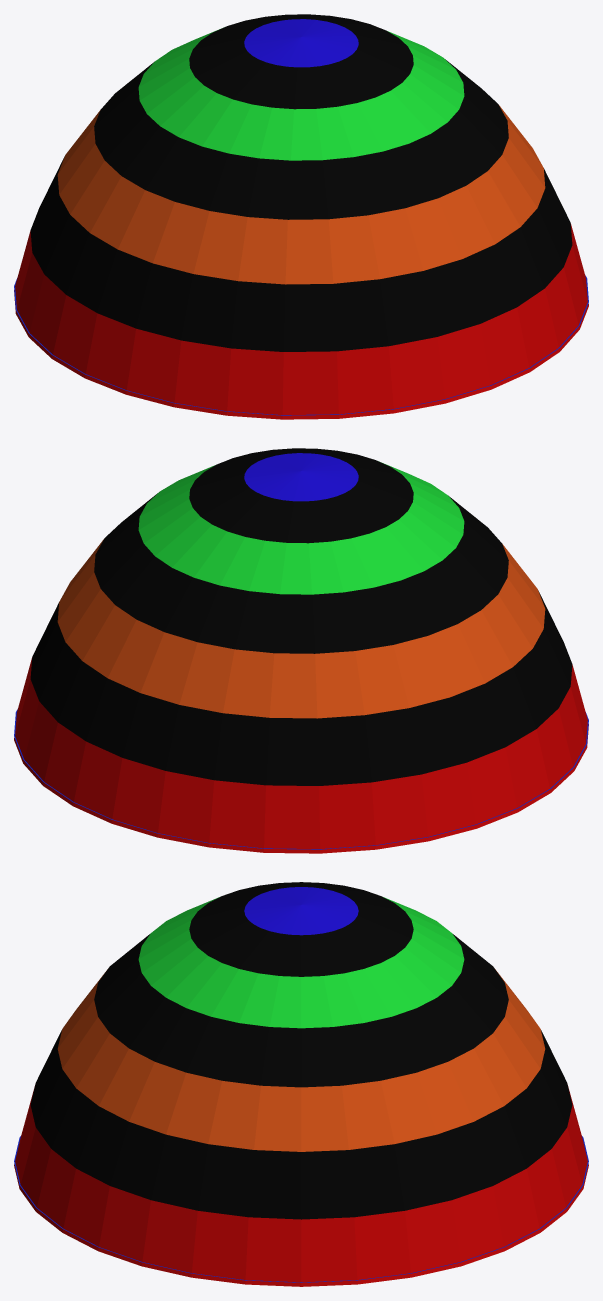
Rendered from curling3.dae.
The picture shows the model from 3 angles, top to bottom: view 1: azimuth 30°, elevation 25°; view 2: azimuth 150°, elevation 25°; view 3: azimuth 270°, elevation 25°; orthographic projection.
Visible parts, largest first — view 1: Sphere, Cylinder; view 2: Sphere, Cylinder; view 3: Sphere, Cylinder.
Part boxes in pixels (x1=…): Sphere: x1=14, y1=14, x2=588, y2=419; Cylinder: x1=14, y1=275, x2=588, y2=415; Sphere: x1=14, y1=448, x2=588, y2=853; Cylinder: x1=14, y1=709, x2=588, y2=849; Sphere: x1=14, y1=882, x2=588, y2=1286; Cylinder: x1=14, y1=1136, x2=588, y2=1282.
Bounding box in the file's own units: 16 × 16 × 8.
